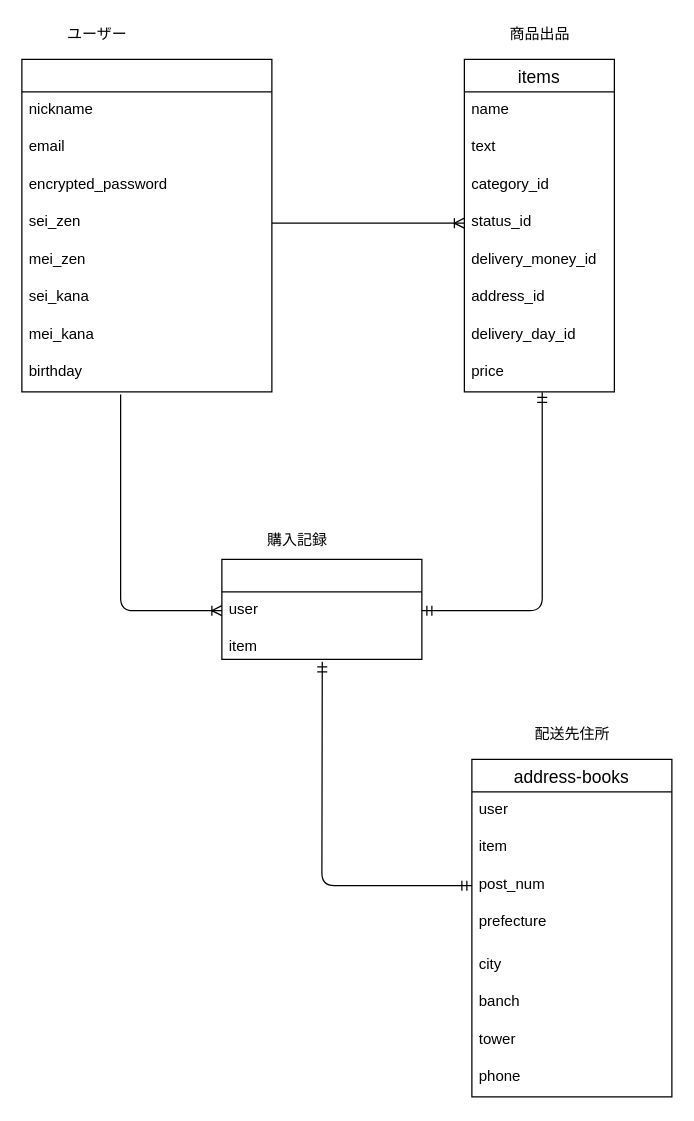
This 694x1121 diagram has some shape labels left out. Here are the shapes that lost their labels. From the top down, the box of each, then its label:
(21, 58, 272, 392): users
(221, 558, 422, 659): orders
